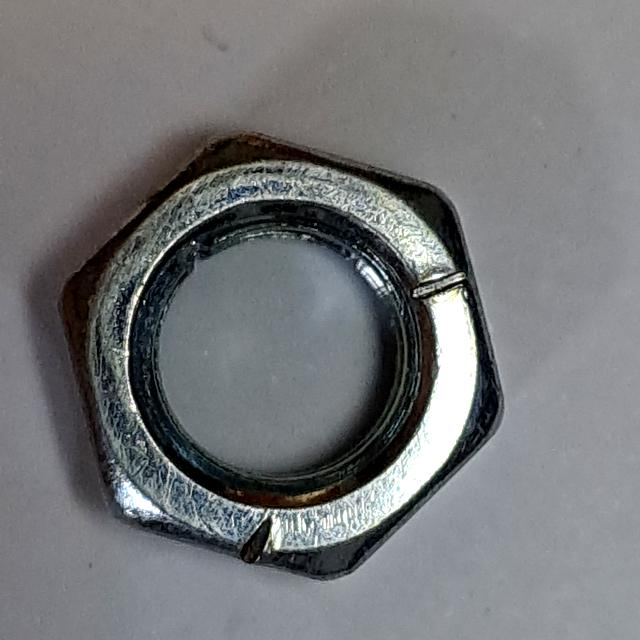Scratches: (51, 106, 517, 598)
